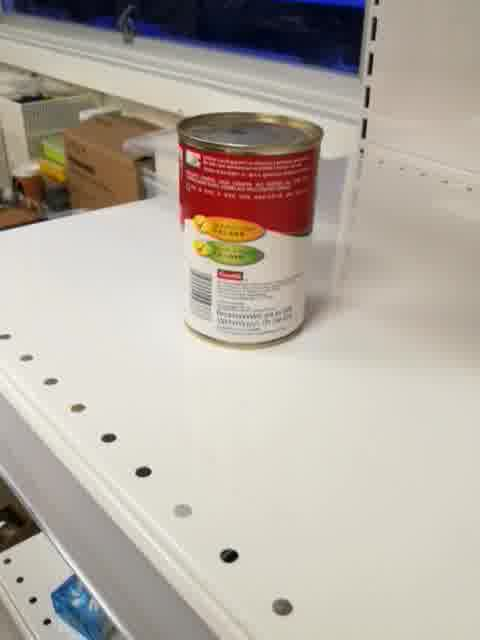tomatosoup: (174, 107, 327, 354)
